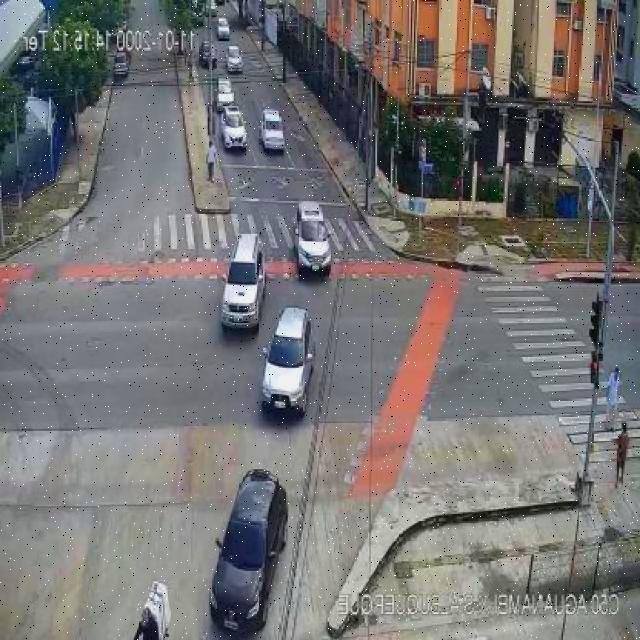Car: (209, 468, 288, 634), (258, 306, 314, 415), (220, 234, 266, 327), (294, 201, 332, 276), (218, 105, 248, 150), (260, 107, 285, 151), (216, 78, 235, 110), (199, 40, 218, 68), (226, 45, 243, 73), (113, 51, 130, 79), (16, 53, 37, 73), (216, 17, 230, 40)
